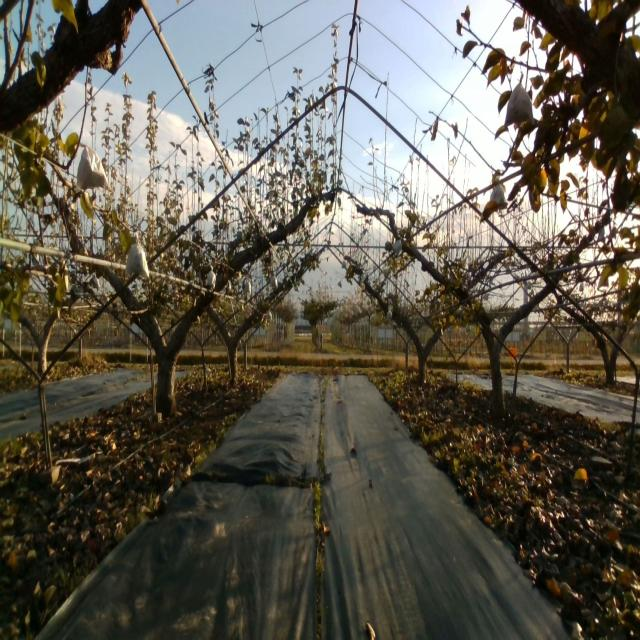pearbags: (505, 70, 535, 128), (76, 140, 110, 190), (124, 230, 150, 280), (490, 185, 507, 205), (392, 238, 403, 256)
